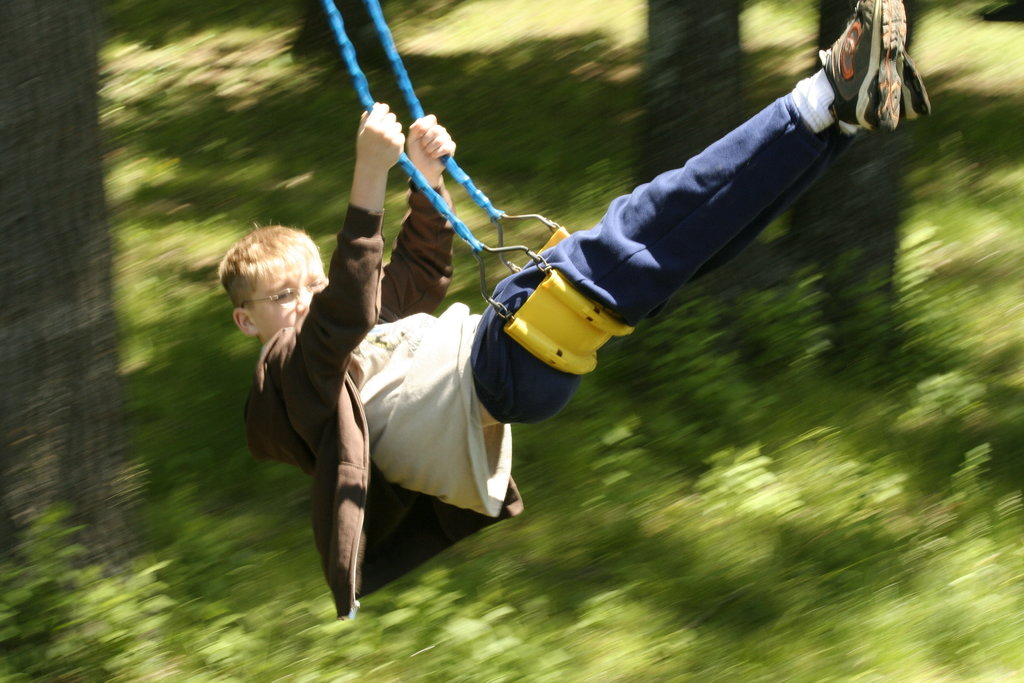Person: (217, 0, 931, 622)
